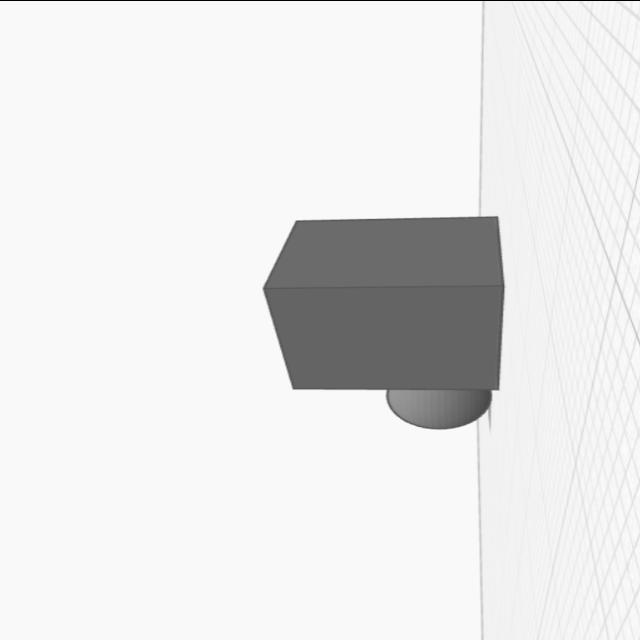cube: (260, 212, 510, 394)
